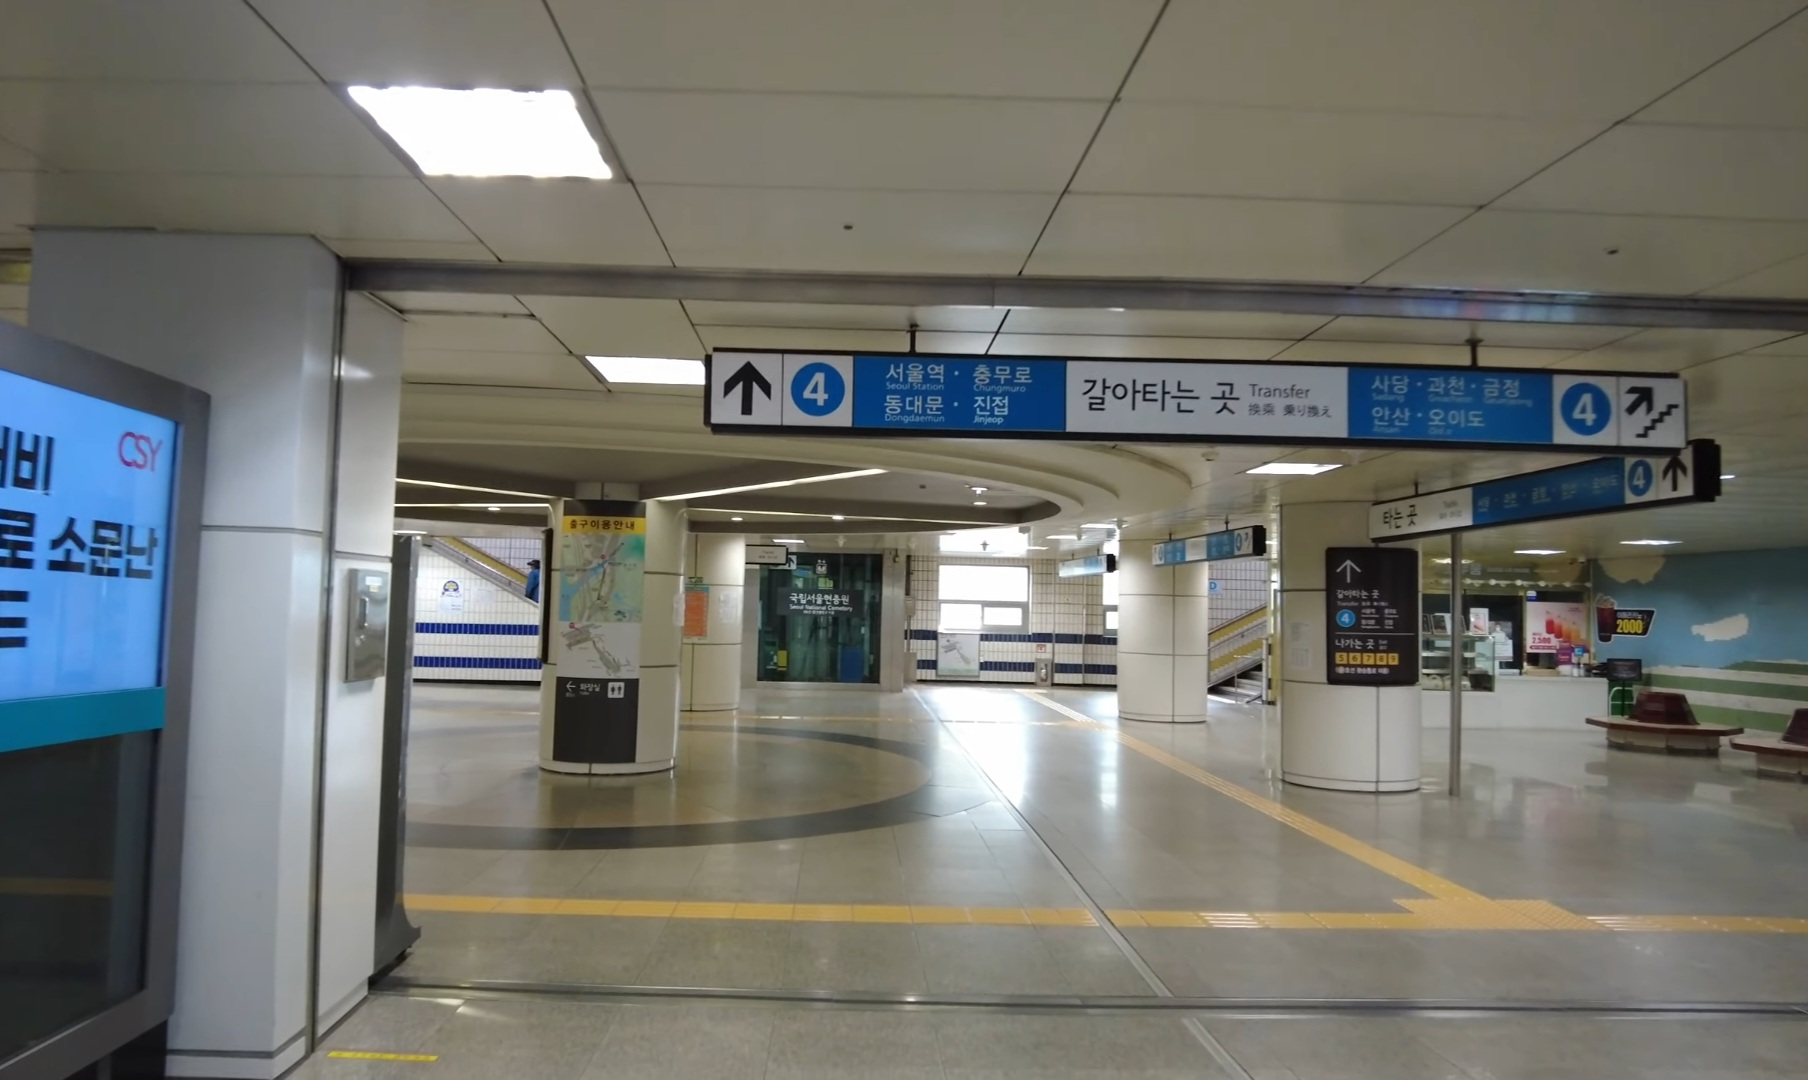signBoard: (702, 324, 1695, 459)
